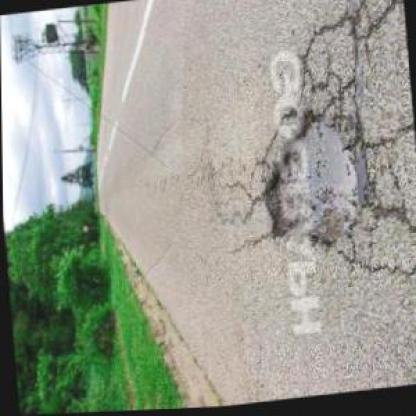pothole: (254, 101, 374, 261)
